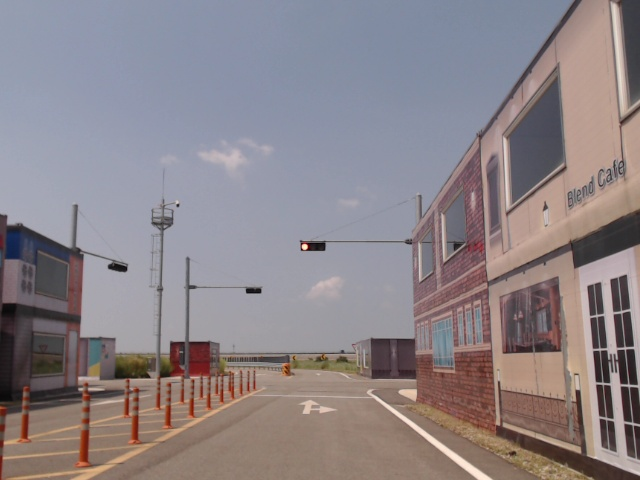red_3: (301, 242, 326, 251)
